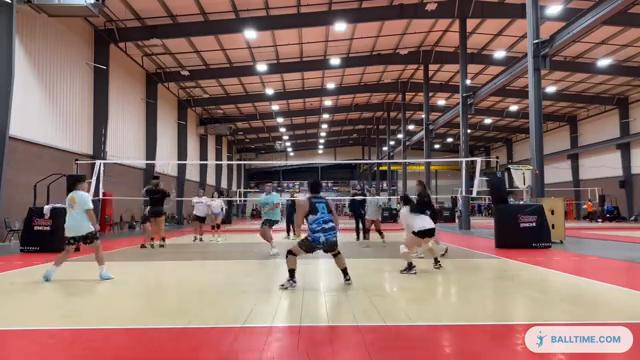Player: (43, 175, 112, 281), (399, 194, 441, 273), (143, 176, 170, 247), (259, 183, 280, 255), (363, 188, 384, 246), (348, 185, 365, 240), (192, 189, 209, 241), (209, 191, 225, 241), (140, 206, 154, 248), (285, 192, 296, 239), (416, 180, 432, 203)
Receive: (275, 177, 356, 291)
ball: (273, 139, 285, 152)
